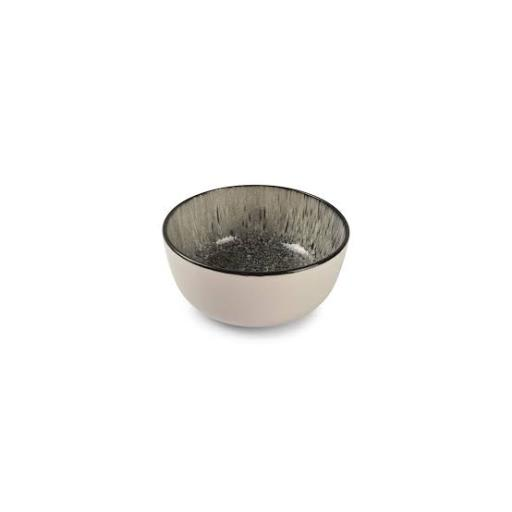Bowl: (163, 186, 349, 329)
